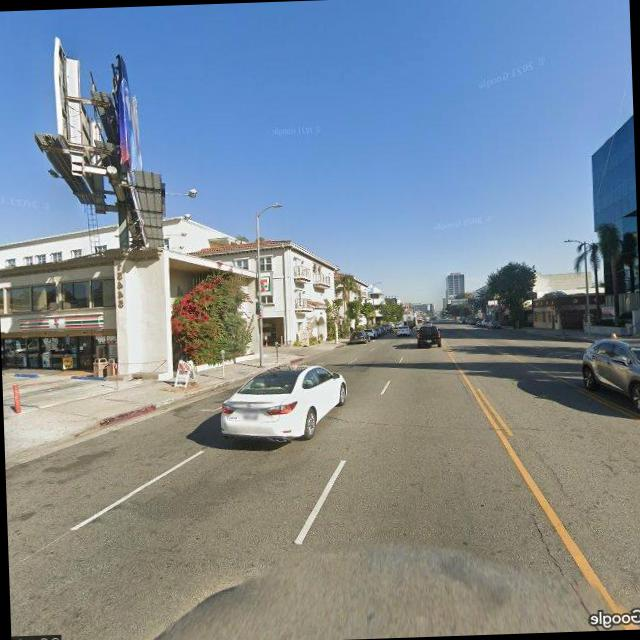crack: (527, 510, 594, 627), (338, 410, 570, 440), (534, 448, 570, 494)
